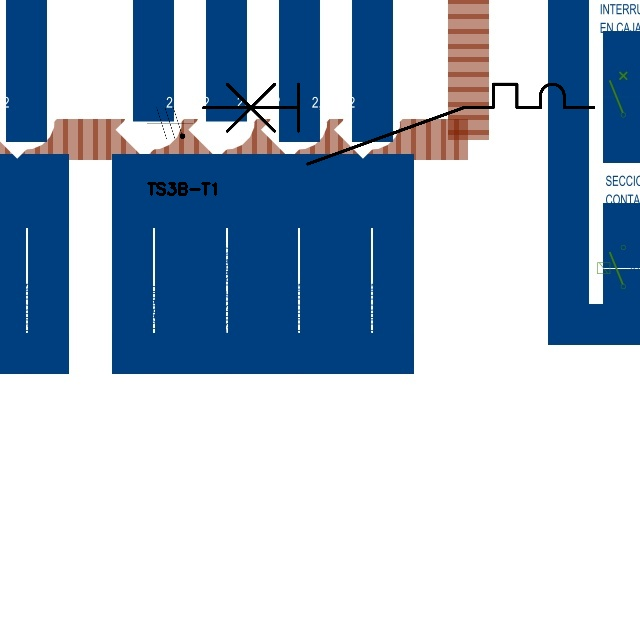interruptor_termomagnetico: (193, 74, 604, 174)
